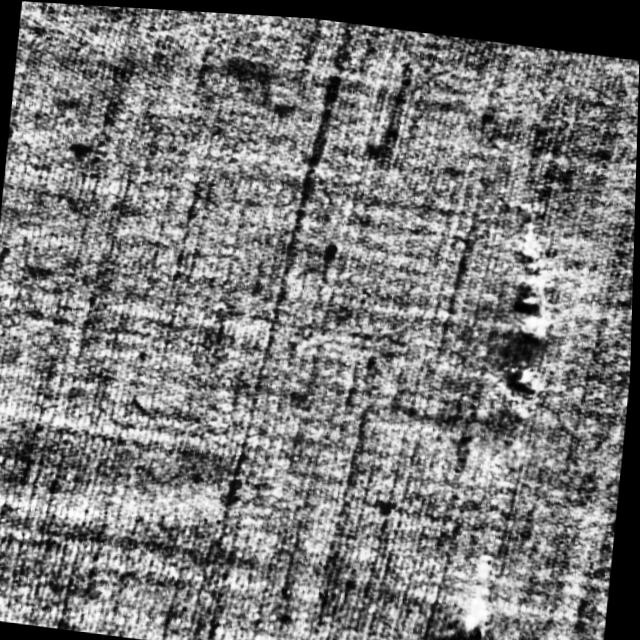Stitch: (398, 187, 602, 640), (479, 212, 581, 410)
